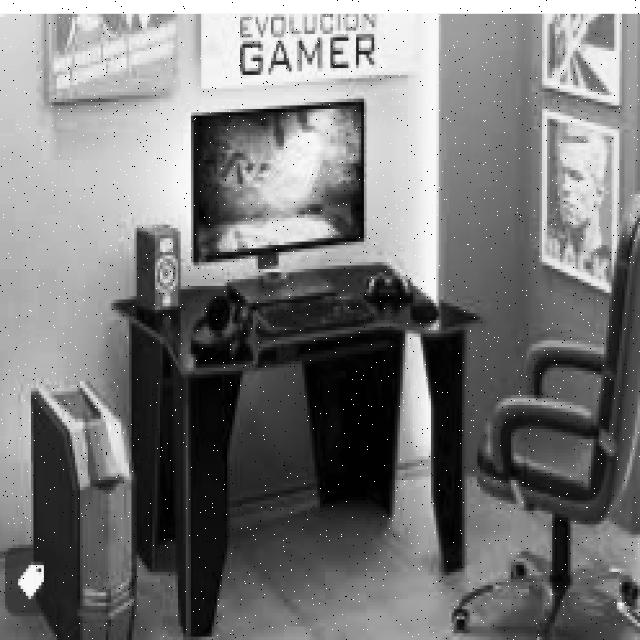book: (449, 187, 640, 640)
table: (111, 258, 480, 636)
